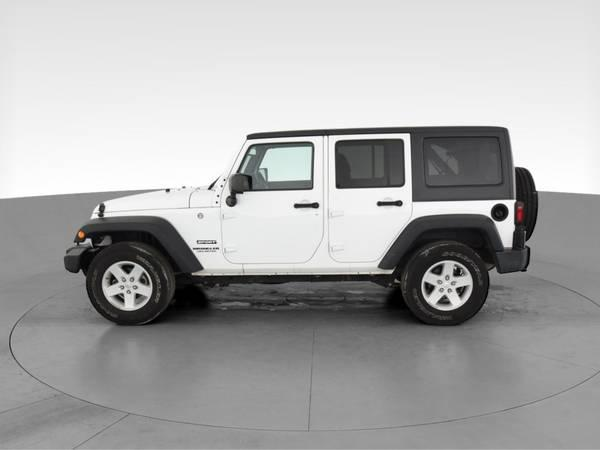Front_Fender: (77, 207, 226, 276)
Front_Left_Door: (224, 189, 327, 278)
Front_Left_Window: (216, 134, 326, 190)
Hood: (93, 185, 225, 213)
Rear_Bumper: (498, 242, 532, 273)
Rear_Fender: (376, 132, 514, 275)
Rear_Left_Door: (327, 184, 413, 275)
Rear_Left_Window: (326, 132, 411, 190)
Wheel: (83, 241, 175, 327), (402, 240, 491, 327)
